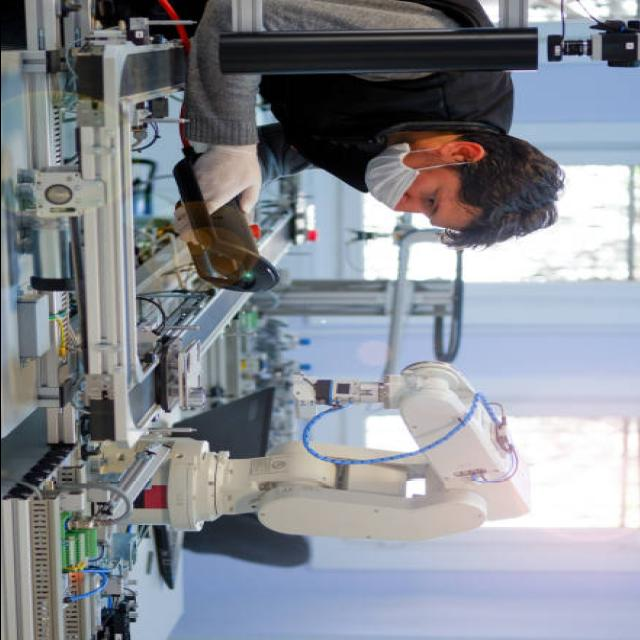Robotic-arm: (137, 358, 542, 549)
